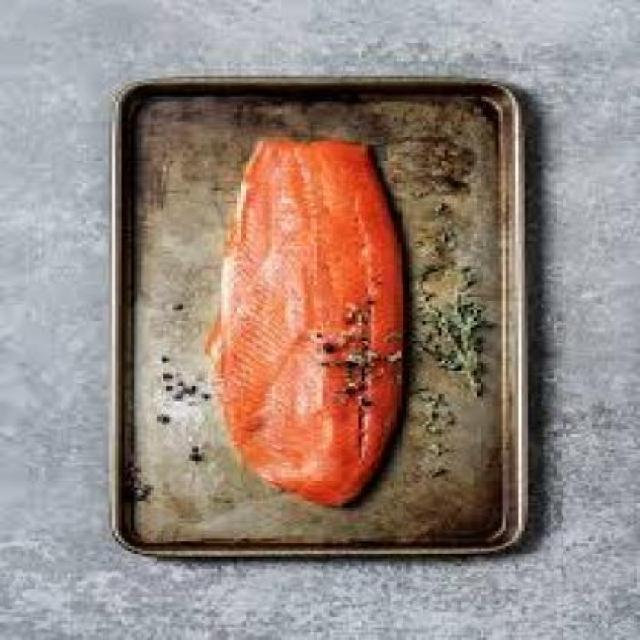salmon: (178, 106, 438, 522)
